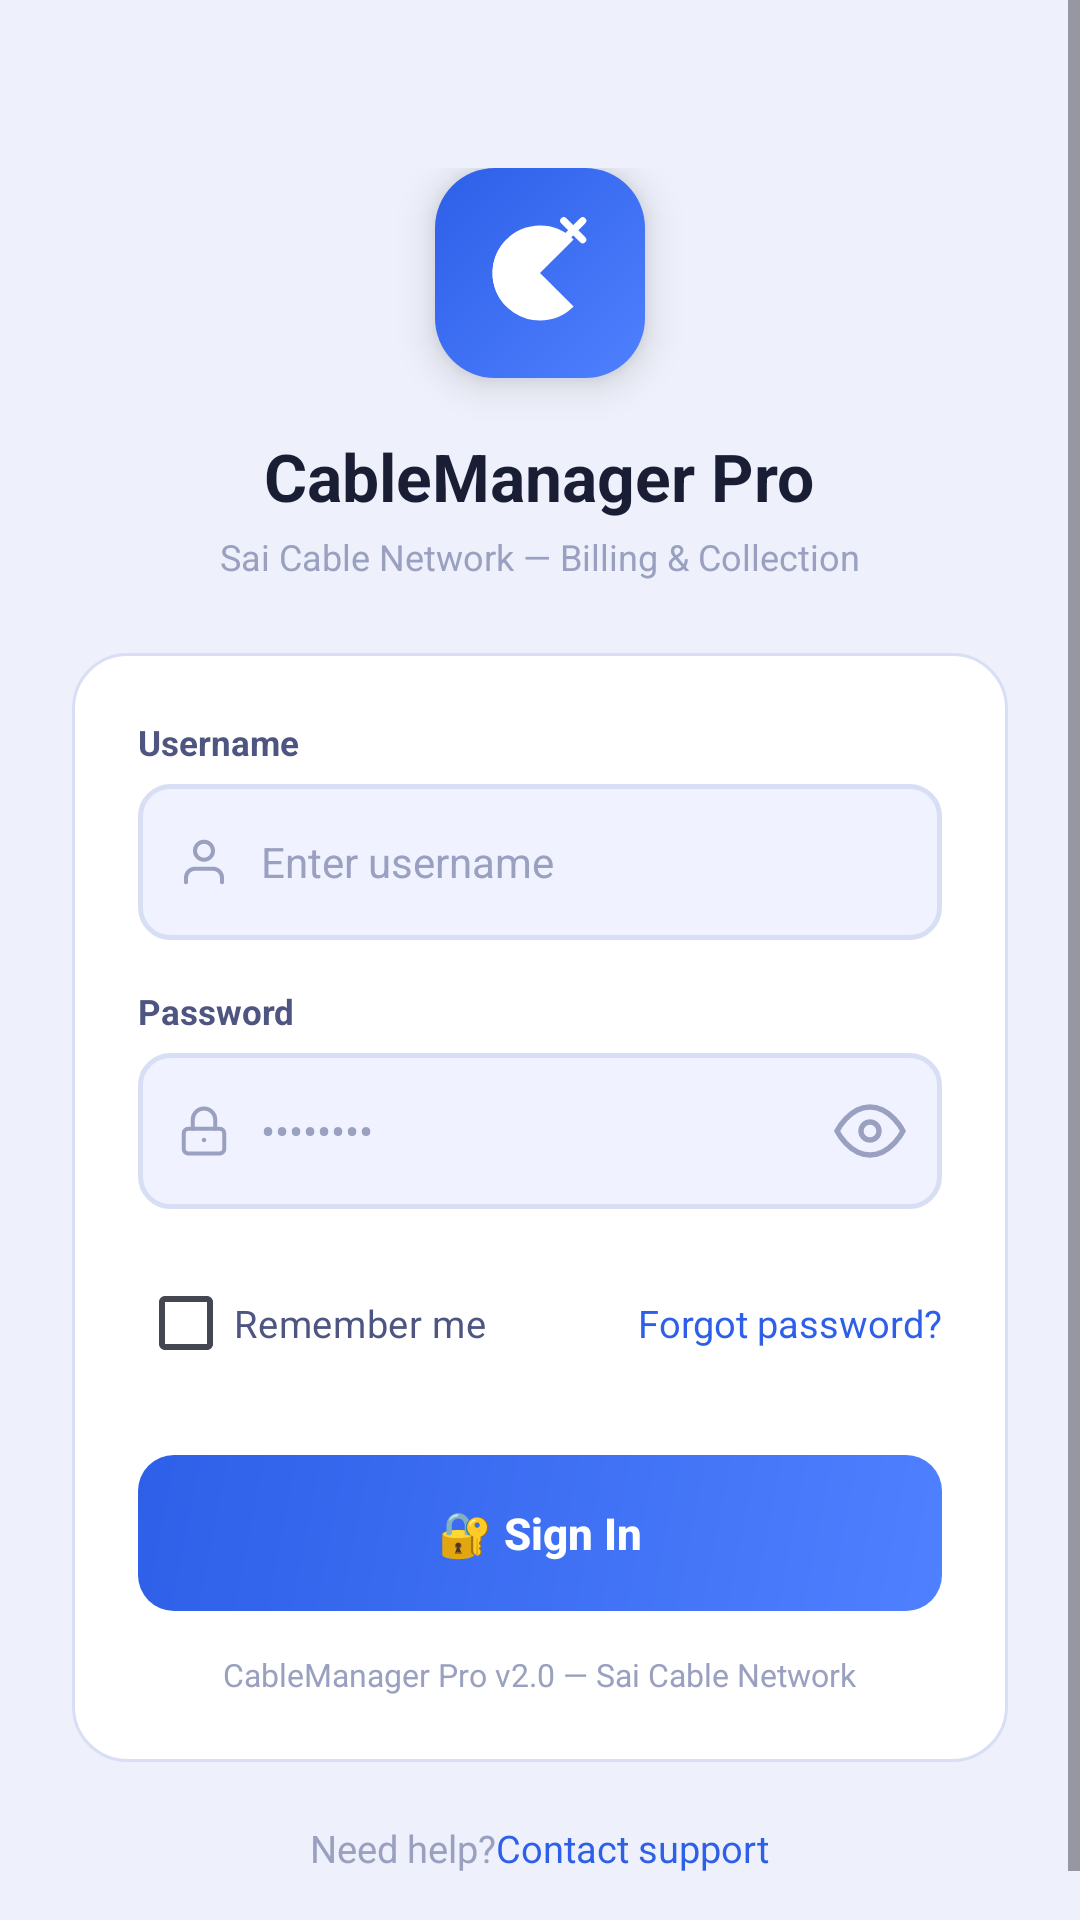

Point at icon controls on the screen. Image size 1080×1920, points as (x,y).
Lock icon: (204,1131)
Toggle password visibility: (870,1131)
User icon: (204,862)
